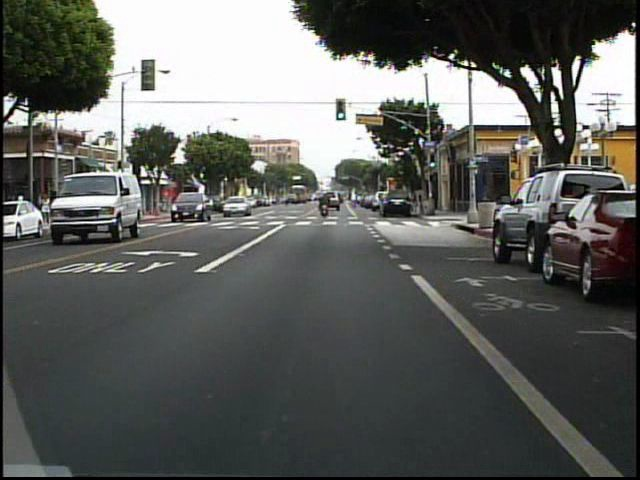person: (41, 191, 58, 231), (74, 189, 87, 221), (320, 190, 334, 219), (87, 190, 99, 221)
